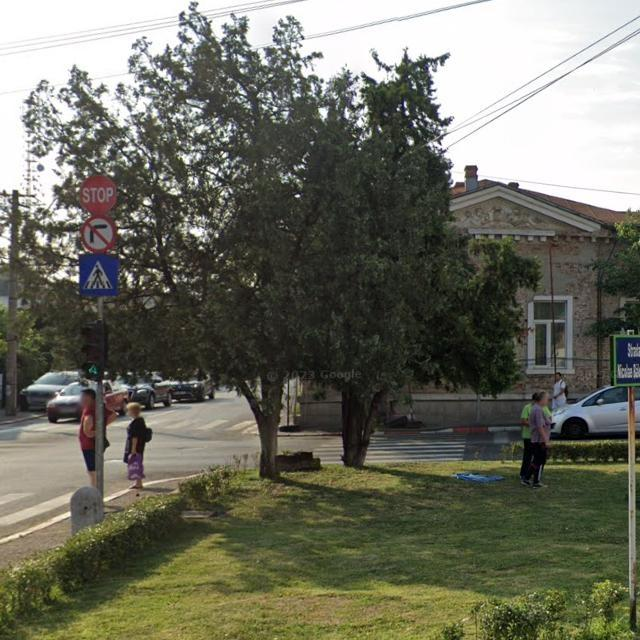info_crosswalk: (78, 253, 118, 298)
prio_stop: (78, 174, 117, 215)
